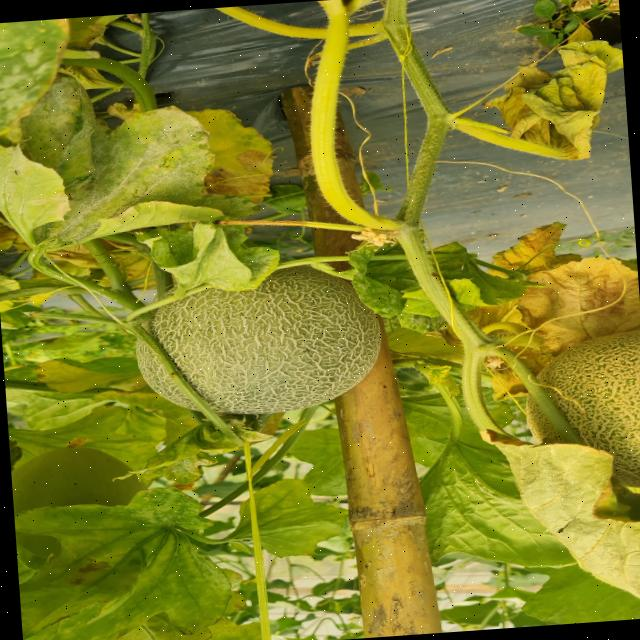melon: (146, 265, 380, 413), (135, 339, 195, 408)
